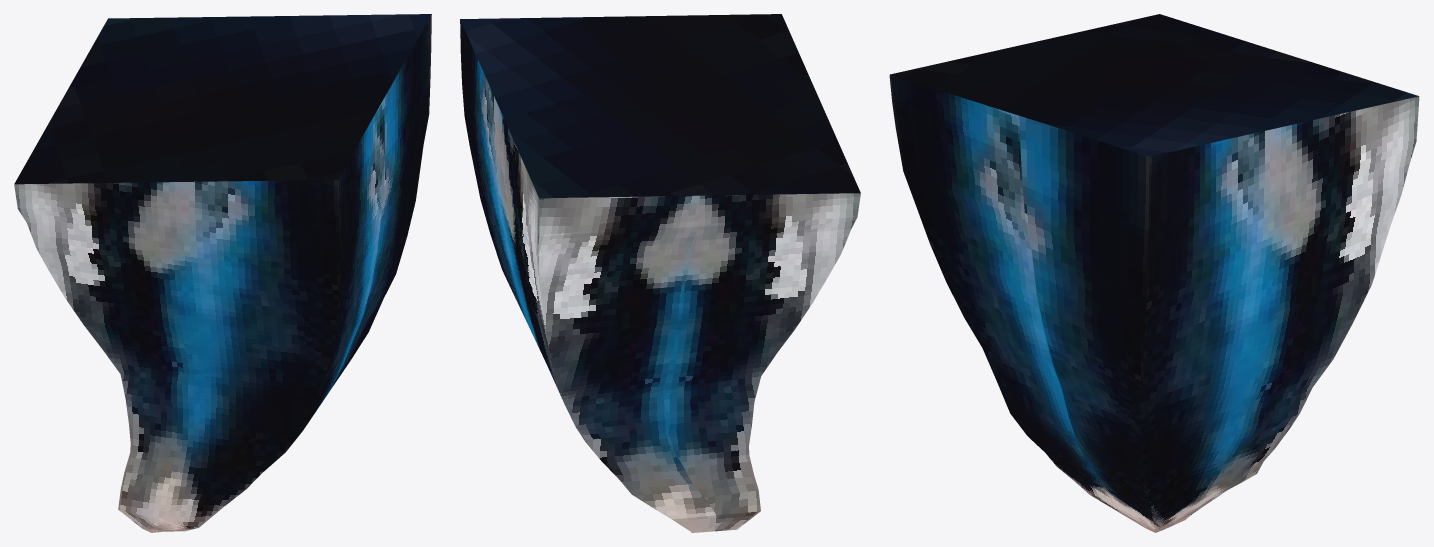
3 renders of one model, left to right at view 1: azimuth 30°, elevation 25°; view 2: azimuth 150°, elevation 25°; view 3: azimuth 270°, elevation 25°, orthographic. The views are drawn at different scales.
Parts seen in each view (by area): view 1: SPLICE_2; view 2: SPLICE_2; view 3: SPLICE_2.
Boxes of the visible parts, box(x1,y1,x2,y2) form: SPLICE_2: box(14, 14, 431, 532); SPLICE_2: box(460, 14, 860, 532); SPLICE_2: box(889, 14, 1419, 532).
Bounding box in the file's own units: 1.02 × 1.07 × 1.02.
Materials: 1 (1 with a texture image).
